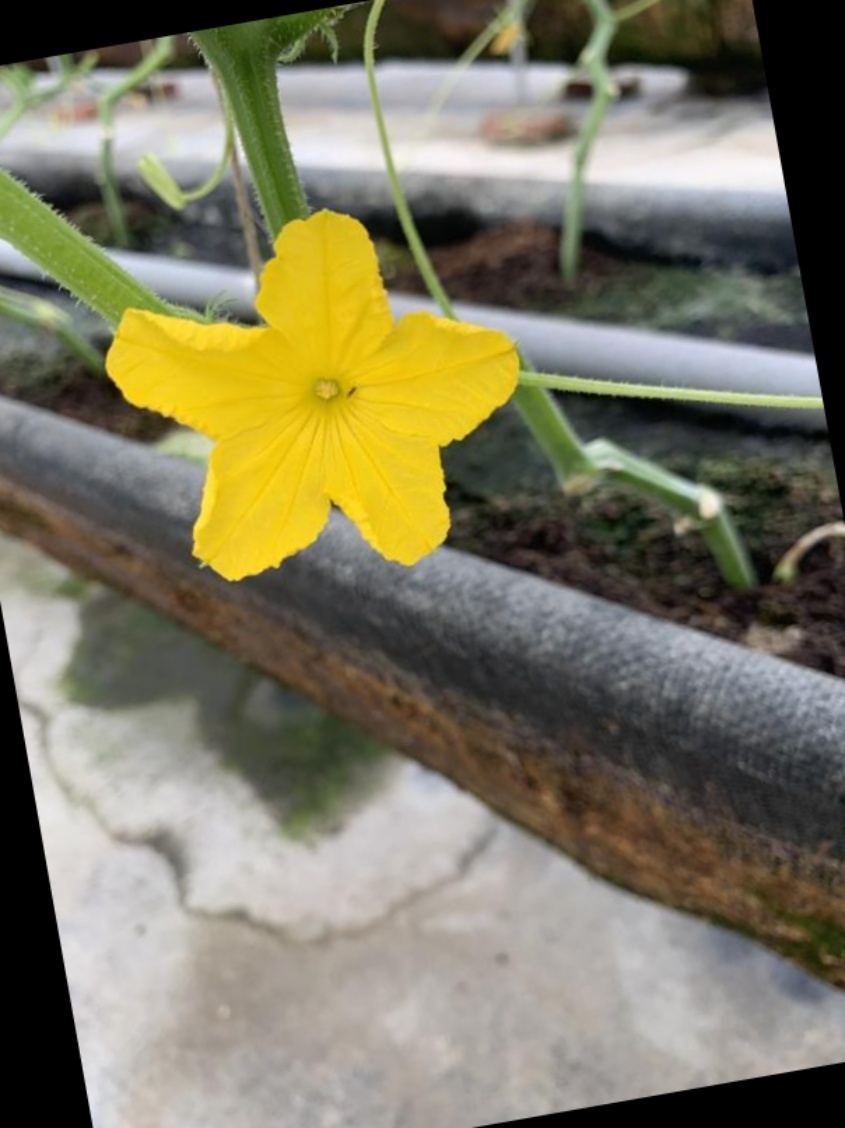flowering: (94, 206, 533, 578)
